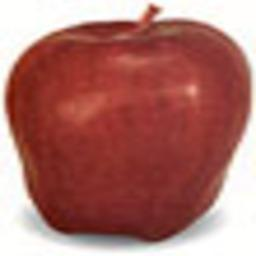apple: (7, 10, 251, 243)
